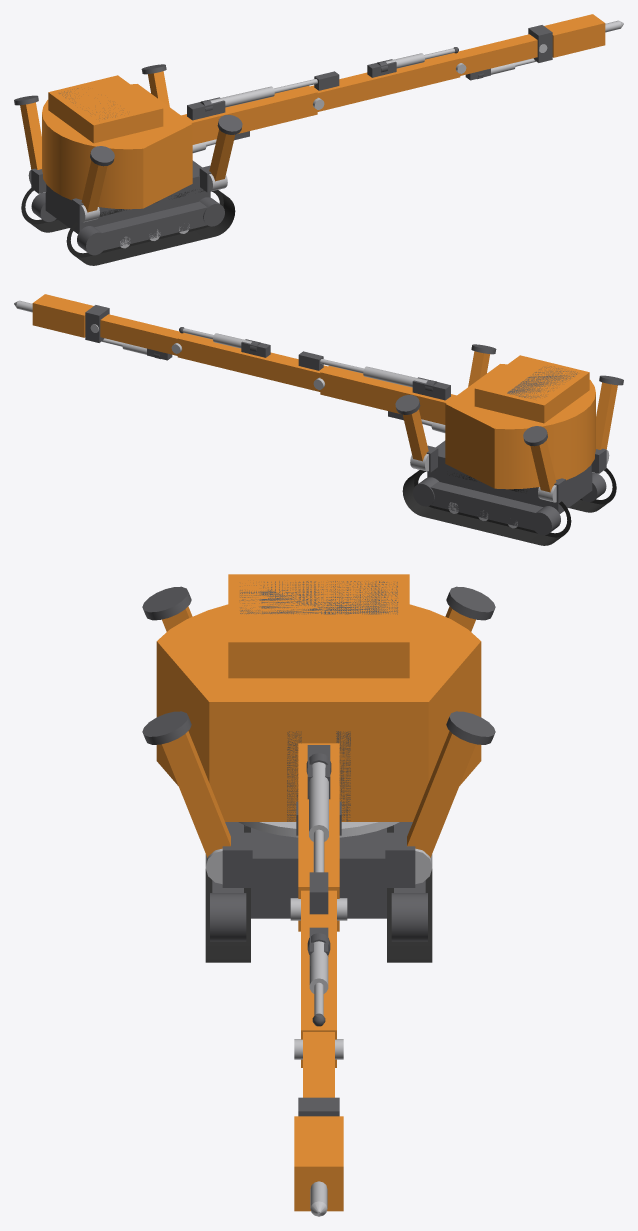
The model's file is SM_DemolitionRobot.fbx.
3 renders of one model, top to bottom at view 1: azimuth 30°, elevation 25°; view 2: azimuth 150°, elevation 25°; view 3: azimuth 270°, elevation 25°, orthographic. The views are drawn at different scales.
Parts seen in each view (by area): view 1: DR_Turret, DR_Chassis, DR_Arm, DR_Boom, DR_Track_R, DR_Breaker, DR_ToolArm, DR_Outrigger_FR, DR_Outrigger_RR, DR_Outrigger_RL, DR_ArmCyl_Barrel, DR_Outrigger_FL (+2 smaller); view 2: DR_Turret, DR_Chassis, DR_Arm, DR_Boom, DR_Breaker, DR_Track_L, DR_ToolArm, DR_Outrigger_FL, DR_Outrigger_RL, DR_Outrigger_RR, DR_ArmCyl_Barrel, DR_Outrigger_FR (+2 smaller); view 3: DR_Turret, DR_Chassis, DR_Breaker, DR_Outrigger_FL, DR_Outrigger_FR, DR_Arm, DR_Boom, DR_ToolArm, DR_Track_L, DR_Track_R, DR_ArmCyl_Barrel, DR_Outrigger_RL (+2 smaller).
Boxes of the visible parts, left/top/right/bottom form: DR_Turret: left=42, top=75, right=192, bottom=209; DR_Chassis: left=31, top=160, right=224, bottom=255; DR_Arm: left=310, top=53, right=466, bottom=111; DR_Boom: left=181, top=86, right=324, bottom=144; DR_Track_R: left=66, top=189, right=235, bottom=265; DR_Breaker: left=528, top=14, right=623, bottom=62; DR_ToolArm: left=453, top=34, right=547, bottom=80; DR_Outrigger_FR: left=209, top=115, right=242, bottom=191; DR_Outrigger_RR: left=81, top=146, right=114, bottom=222; DR_Outrigger_RL: left=14, top=95, right=41, bottom=184; DR_ArmCyl_Barrel: left=200, top=86, right=274, bottom=111; DR_Outrigger_FL: left=141, top=64, right=169, bottom=106; DR_Turret: left=445, top=355, right=595, bottom=489; DR_Chassis: left=413, top=440, right=606, bottom=535; DR_Arm: left=171, top=333, right=327, bottom=391; DR_Boom: left=313, top=366, right=456, bottom=424; DR_Breaker: left=14, top=294, right=109, bottom=342; DR_Track_L: left=402, top=470, right=571, bottom=545; DR_ToolArm: left=90, top=314, right=184, bottom=360; DR_Outrigger_FL: left=395, top=395, right=428, bottom=471; DR_Outrigger_RL: left=523, top=426, right=556, bottom=502; DR_Outrigger_RR: left=596, top=375, right=623, bottom=464; DR_ArmCyl_Barrel: left=363, top=366, right=437, bottom=391; DR_Outrigger_FR: left=468, top=344, right=496, bottom=386; DR_Turret: left=156, top=574, right=481, bottom=835; DR_Chassis: left=210, top=822, right=427, bottom=941; DR_Breaker: left=294, top=1097, right=343, bottom=1216; DR_Outrigger_FL: left=407, top=711, right=495, bottom=884; DR_Outrigger_FR: left=142, top=711, right=230, bottom=884; DR_Arm: left=294, top=872, right=343, bottom=1067; DR_Boom: left=290, top=743, right=347, bottom=931; DR_ToolArm: left=303, top=1032, right=334, bottom=1097; DR_Track_L: left=387, top=826, right=432, bottom=962; DR_Track_R: left=205, top=826, right=250, bottom=962; DR_ArmCyl_Barrel: left=306, top=753, right=331, bottom=841; DR_Outrigger_RL: left=445, top=586, right=495, bottom=631.
Size of the model in its own units: 701 by 158 by 187.
